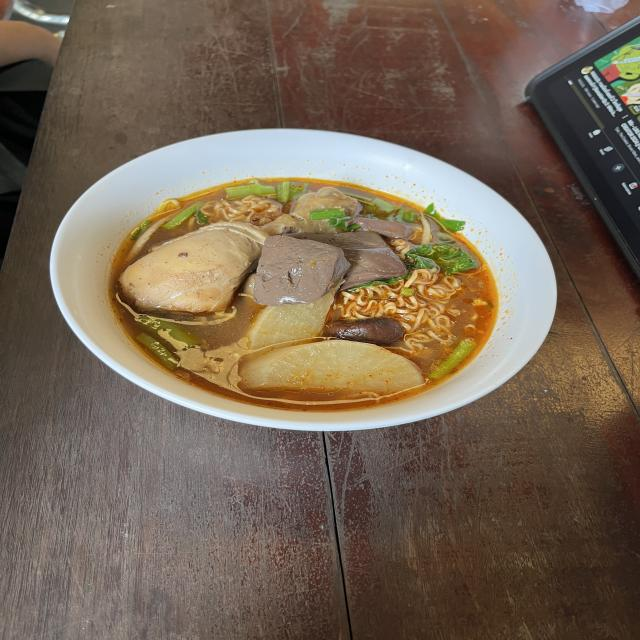noodle: (96, 169, 516, 422)
